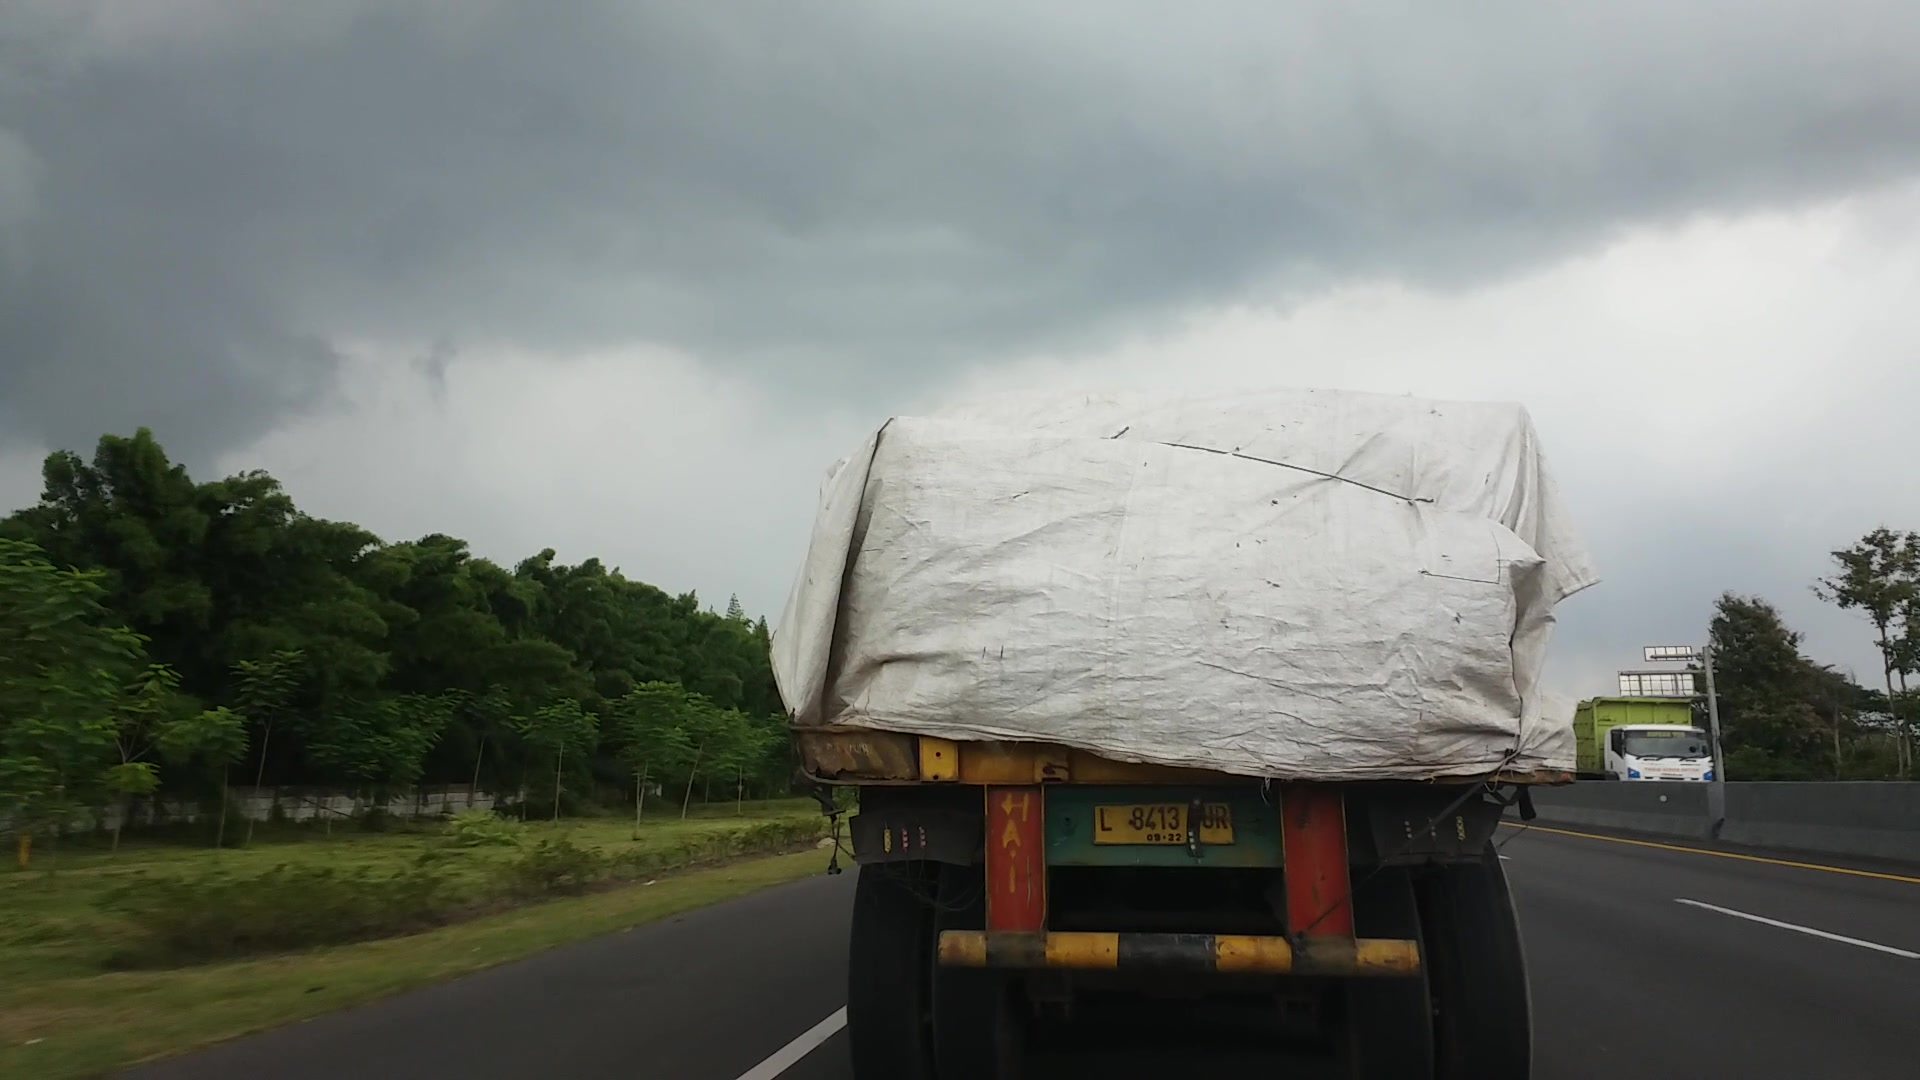plate_positive: (1093, 800, 1234, 847)
